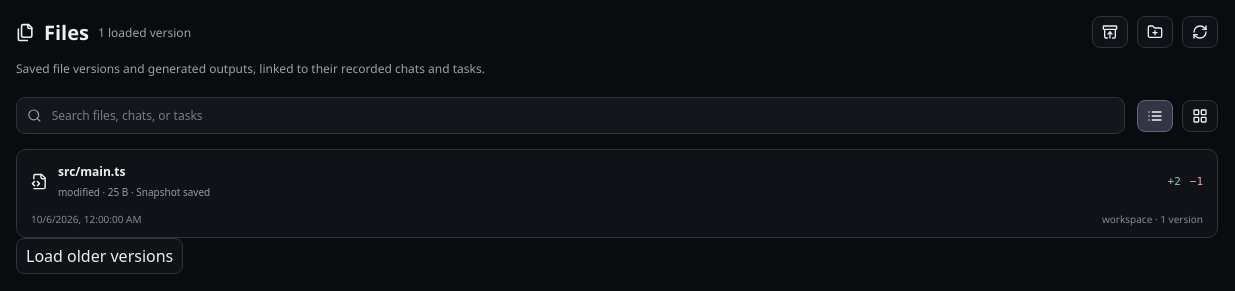
Test: resets pagination on search and ignores an old page that resolves after the filter changed
The width and height of the screenshot is (1235, 291).
Click the button "Load older versions" at coordinates (100, 256), box [16,238,183,274]
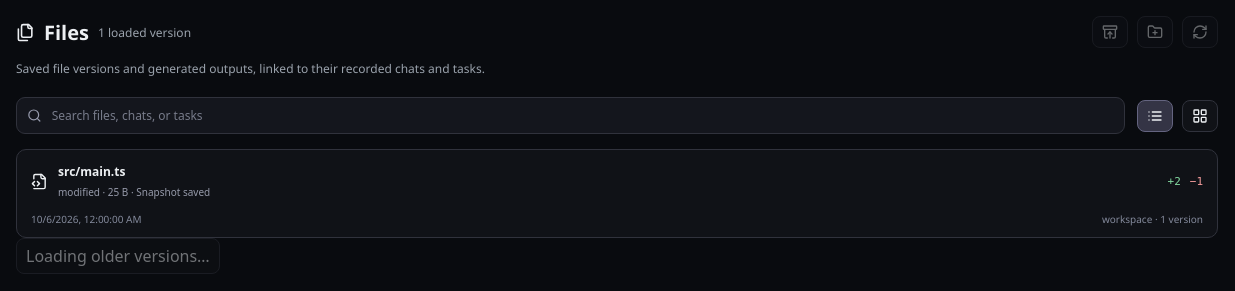
Type "filtered" into the search field named "Search file history" at coordinates (582, 116), box [50,106,1114,125]
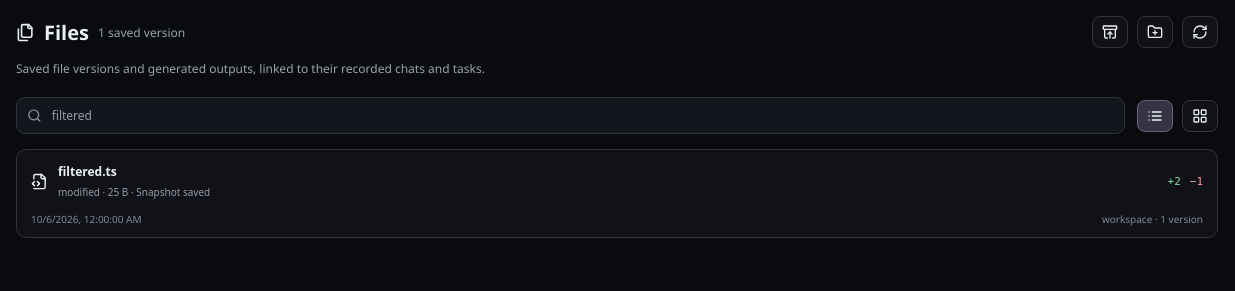
Expected: the button "Load older versions" is not shown
Expected: the button "filtered.ts modified · 25 B · Snapshot saved +2 −1" is shown, [17,150,1217,212]
